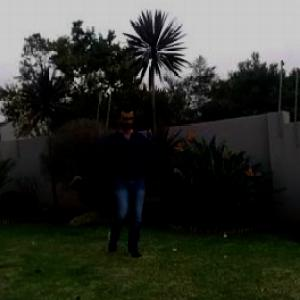land: (73, 101, 188, 247)
